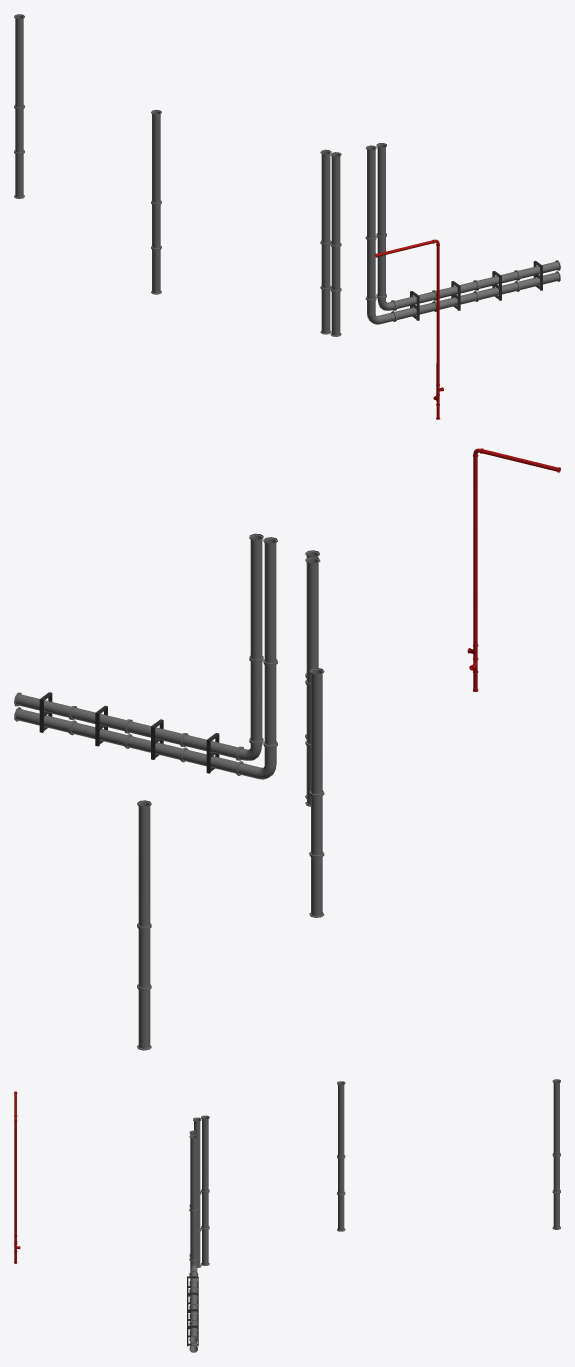
The model's file is SM_H_Building_Tide_Corridor_02H_ATLAS.fbx.
3 views of the same model, one above another, from view 1: azimuth 30°, elevation 25°; view 2: azimuth 150°, elevation 25°; view 3: azimuth 270°, elevation 25° (orthographic). The views are drawn at different scales.
Visible parts, largest first — view 1: SM_H_Building_Tide_Corridor_02H_ATLAS; view 2: SM_H_Building_Tide_Corridor_02H_ATLAS; view 3: SM_H_Building_Tide_Corridor_02H_ATLAS.
Boxes of the visible parts, x1,y1,x2,y2 form: SM_H_Building_Tide_Corridor_02H_ATLAS: (14,14,560,419); SM_H_Building_Tide_Corridor_02H_ATLAS: (14,448,560,1050); SM_H_Building_Tide_Corridor_02H_ATLAS: (14,1079,560,1352).
Bounding box in the file's own units: 1894 × 3432 × 1022.
